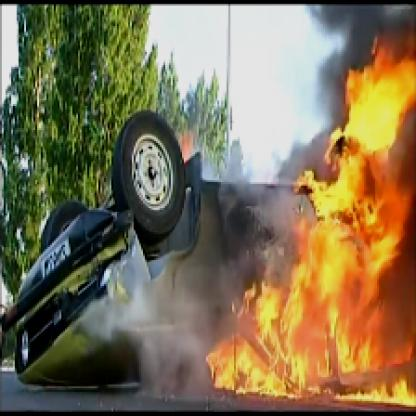Fire: (208, 35, 414, 412)
